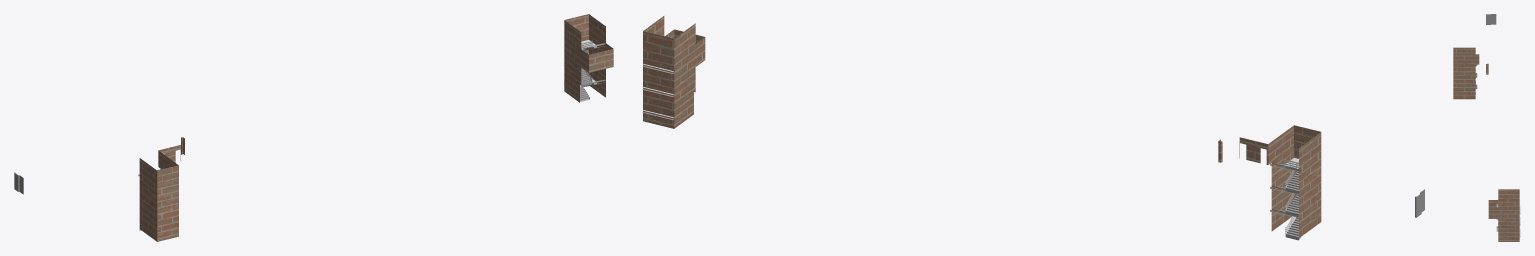
File: Todo para Maria.fbx
3 renders of one model, left to right at view 1: azimuth 30°, elevation 25°; view 2: azimuth 150°, elevation 25°; view 3: azimuth 270°, elevation 25°, orthographic. The views are drawn at different scales.
Visible parts, largest first — view 1: tramoEscaleras, Pared_Escaleras_2; view 2: Pared_Escaleras_2, tramoEscaleras; view 3: Pared_Escaleras_2, tramoEscaleras, Pared_pasillo_final, Puerta_Final_pasillo.
Part boxes in pixels (x1=…): tramoEscaleras: x1=139, y1=137, x2=184, y2=241; Pared_Escaleras_2: x1=564, y1=14, x2=613, y2=102; Pared_Escaleras_2: x1=643, y1=16, x2=705, y2=128; tramoEscaleras: x1=1218, y1=125, x2=1321, y2=237; Pared_Escaleras_2: x1=1488, y1=189, x2=1519, y2=241; tramoEscaleras: x1=1453, y1=47, x2=1488, y2=99; Pared_pasillo_final: x1=1486, y1=14, x2=1496, y2=24; Puerta_Final_pasillo: x1=1491, y1=15, x2=1496, y2=24.
Size of the model in its own units: 10902 by 1283 by 1698.
